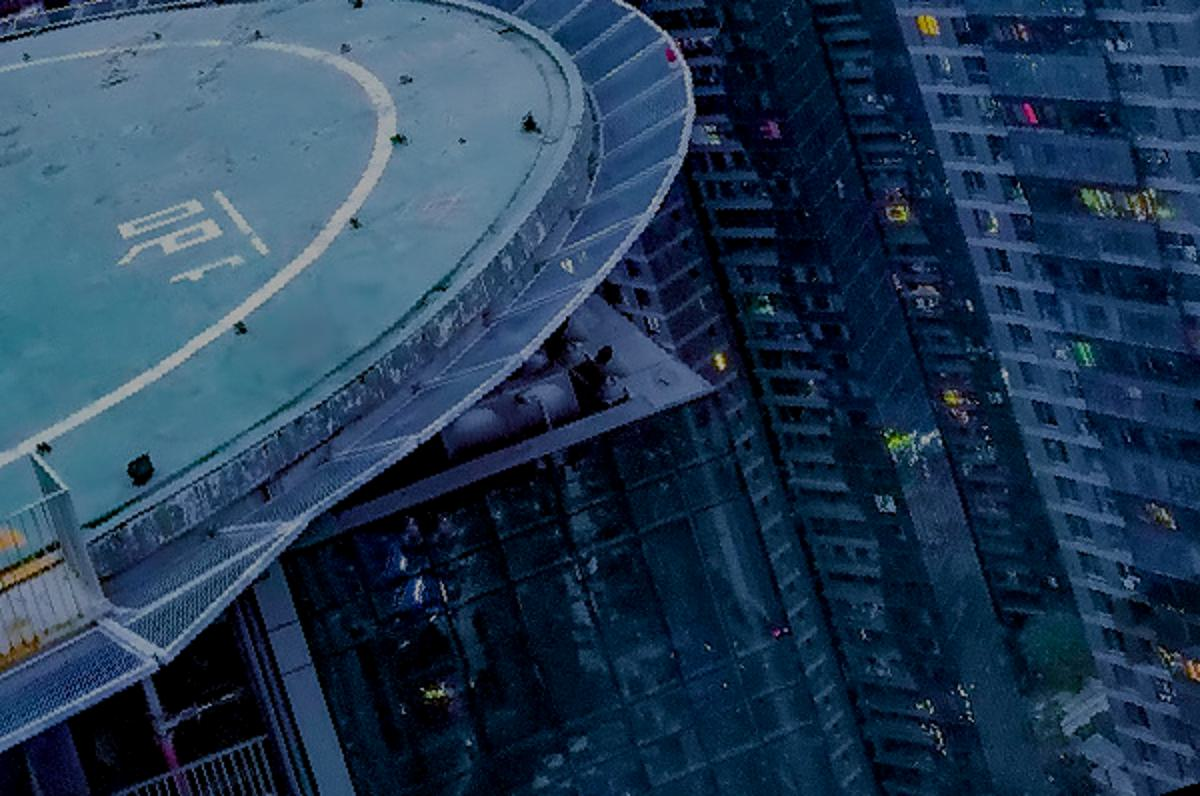Apron: (1, 38, 395, 465)
